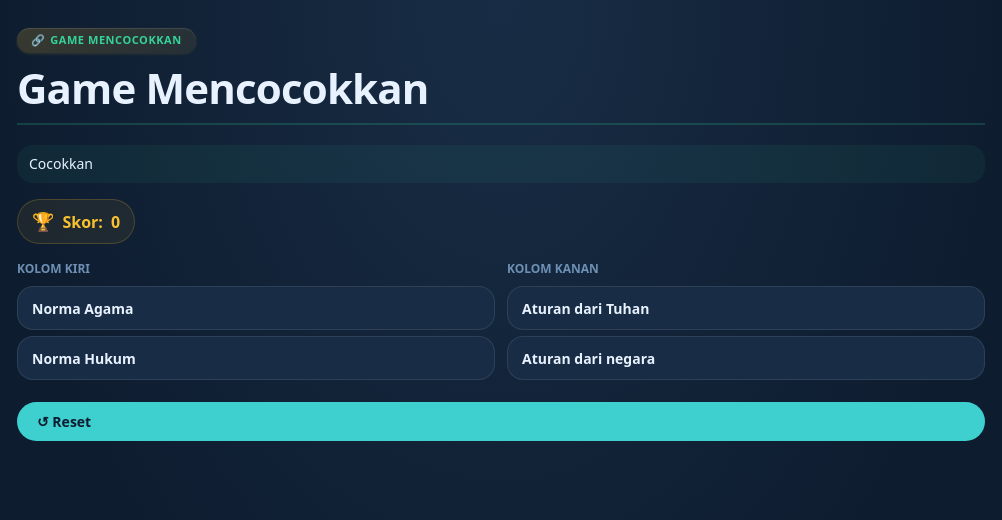
Scenario: PATCH A — Fix 1: Matching wrong pair retry › 1. wrong pair does NOT lock items — siswa bisa mencoba lagi
Select l1 (correct pair is l1→r1)
What coordinates should you click on to do the following:
click the button with test id "left-l1"
I would click on:
 (83, 308)
Its box is top-left (17, 286), bottom-right (495, 330).
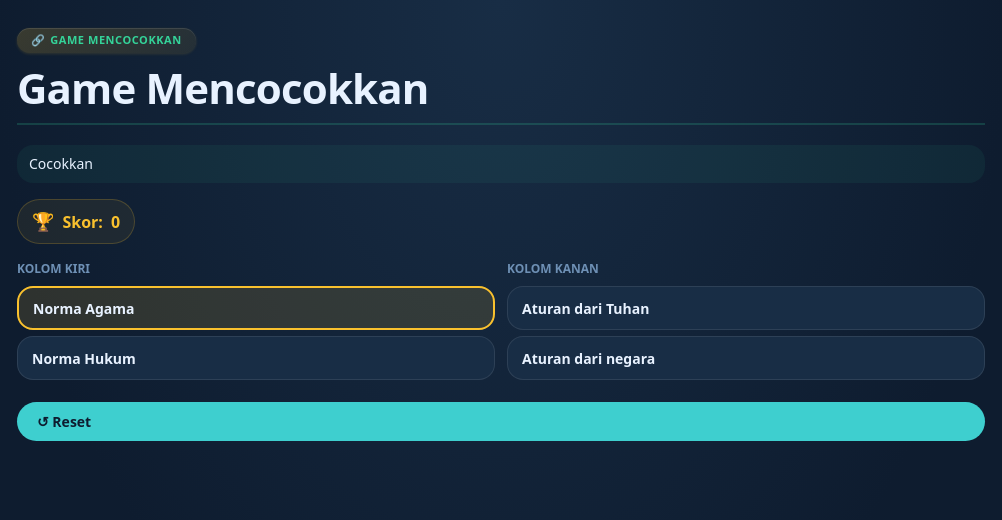
Click WRONG right item (r2 instead of r1)
What coordinates should you click on to do the following:
click the button with test id "right-r2"
I would click on:
 (589, 358)
Its box is top-left (507, 336), bottom-right (985, 380).
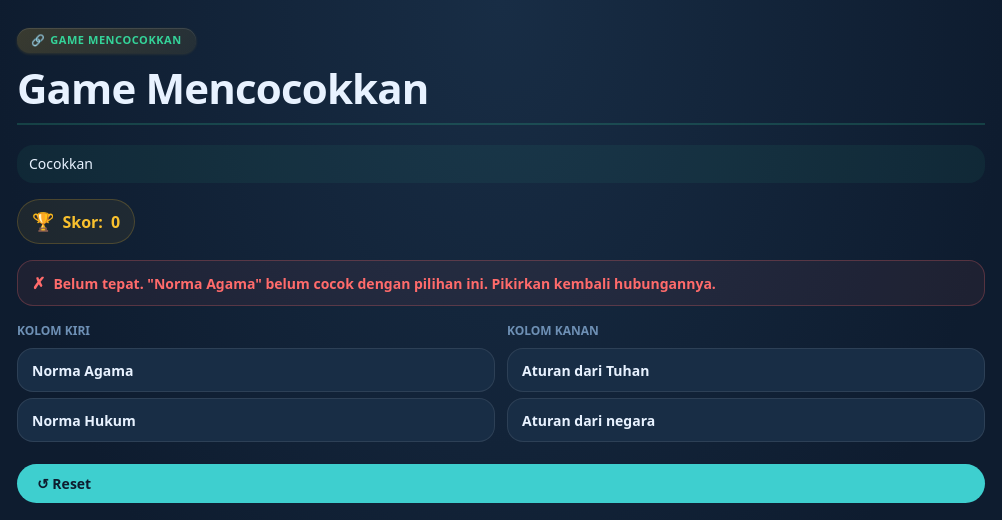
expect the text with test id "matching-score" reads "0": met, box top-left (111, 211), bottom-right (120, 233)
expect the element with test id "matching-feedback" shows "Belum tepat": met, box top-left (53, 274), bottom-right (716, 293)
Siswa bisa mencoba lagi — select l1 again and click r1
What coordinates should you click on to do the following:
click the button with test id "left-l1"
I would click on:
 (83, 370)
Its box is top-left (17, 348), bottom-right (495, 392).
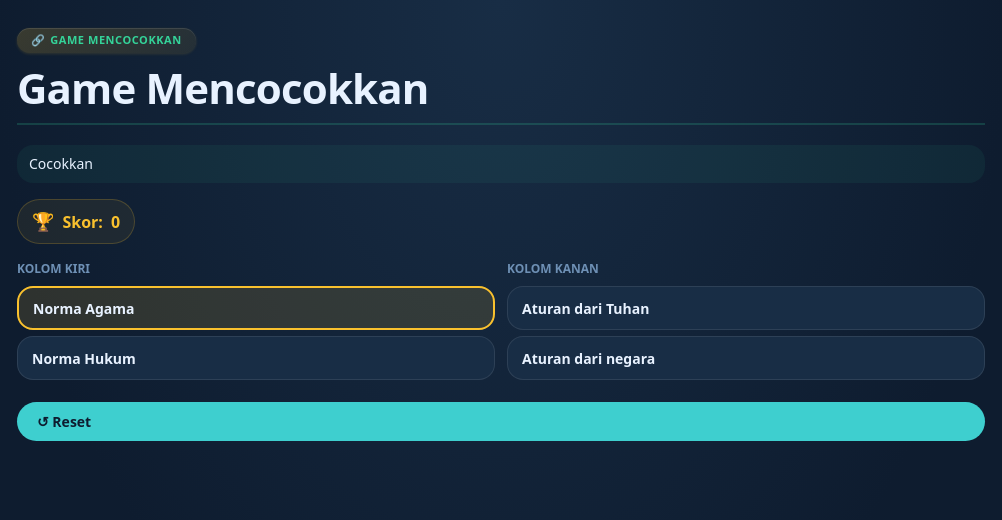
What coordinates should you click on to do the following:
click the button with test id "right-r1"
I would click on:
 (586, 308)
Its box is top-left (507, 286), bottom-right (985, 330).
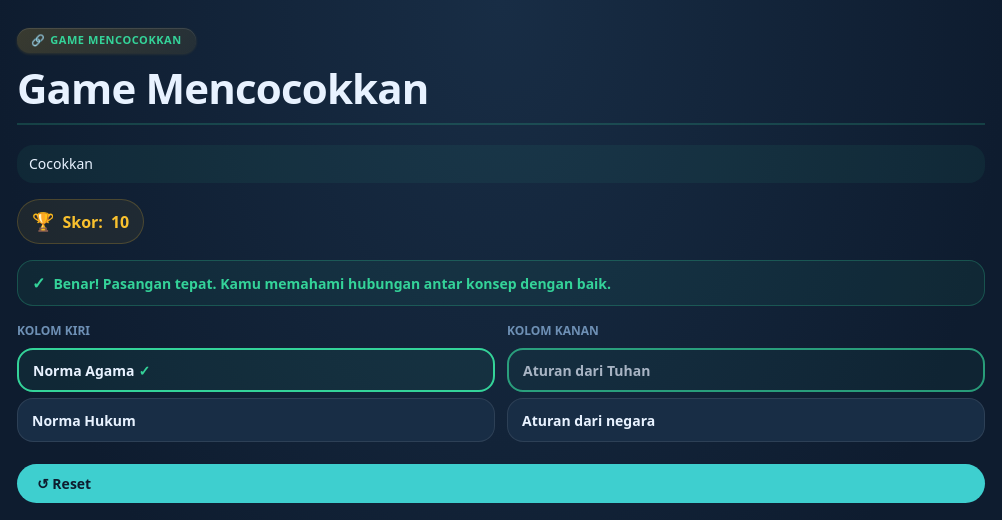
expect the text with test id "matching-score" reads "10": met, box top-left (111, 211), bottom-right (129, 233)
expect the text "Benar" is shown: met, box top-left (53, 274), bottom-right (611, 293)
